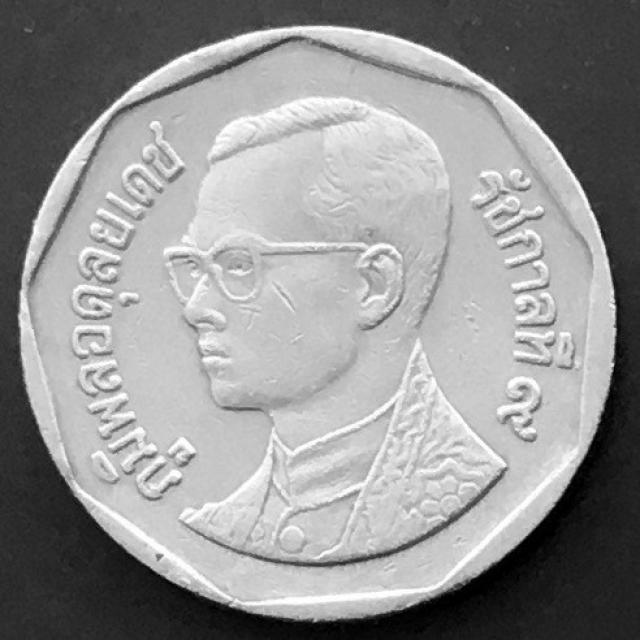5 Bath: (13, 17, 622, 628)
